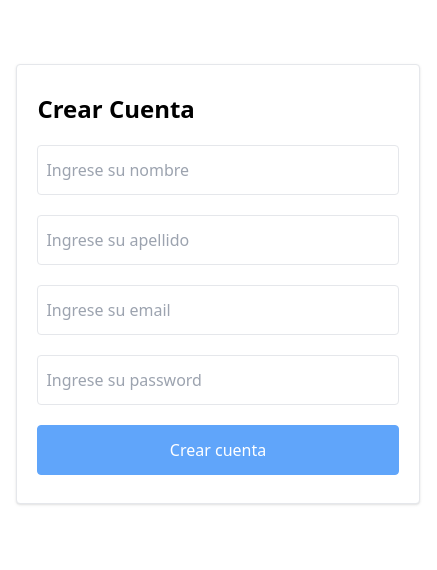
Test case: Render App component › Test App flow
Check: the heading "Crear Cuenta" is shown, box [37, 92, 195, 125]
# estamos dando click al boton
Click the button labelled "Crear cuenta".
click(218, 450)  # box [37, 425, 399, 475]
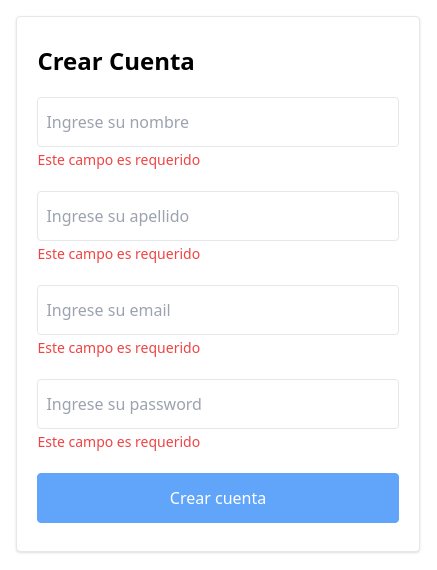
Check: the text "Este campo es requerido" is shown 4 times, box [37, 150, 200, 169]; [37, 244, 200, 263]; [37, 338, 200, 357]; [37, 432, 200, 451]
